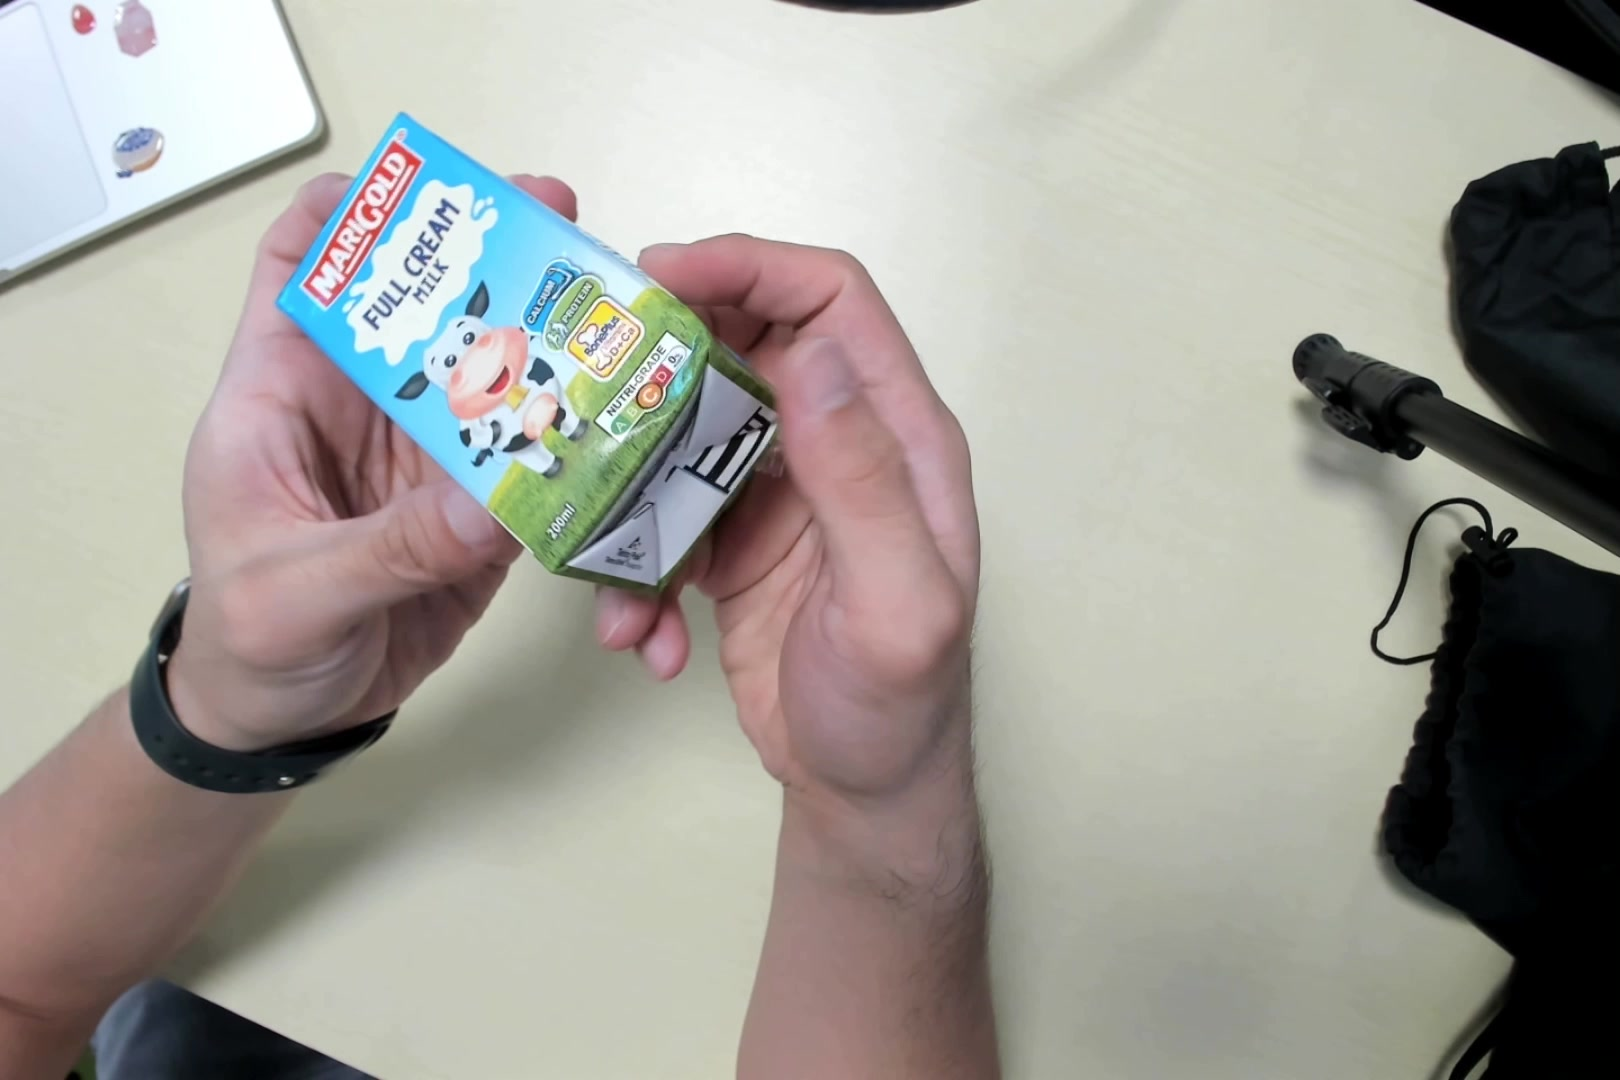Milk(Drink)_200-299g_Halal_NonHealthy: (282, 108, 793, 598)
